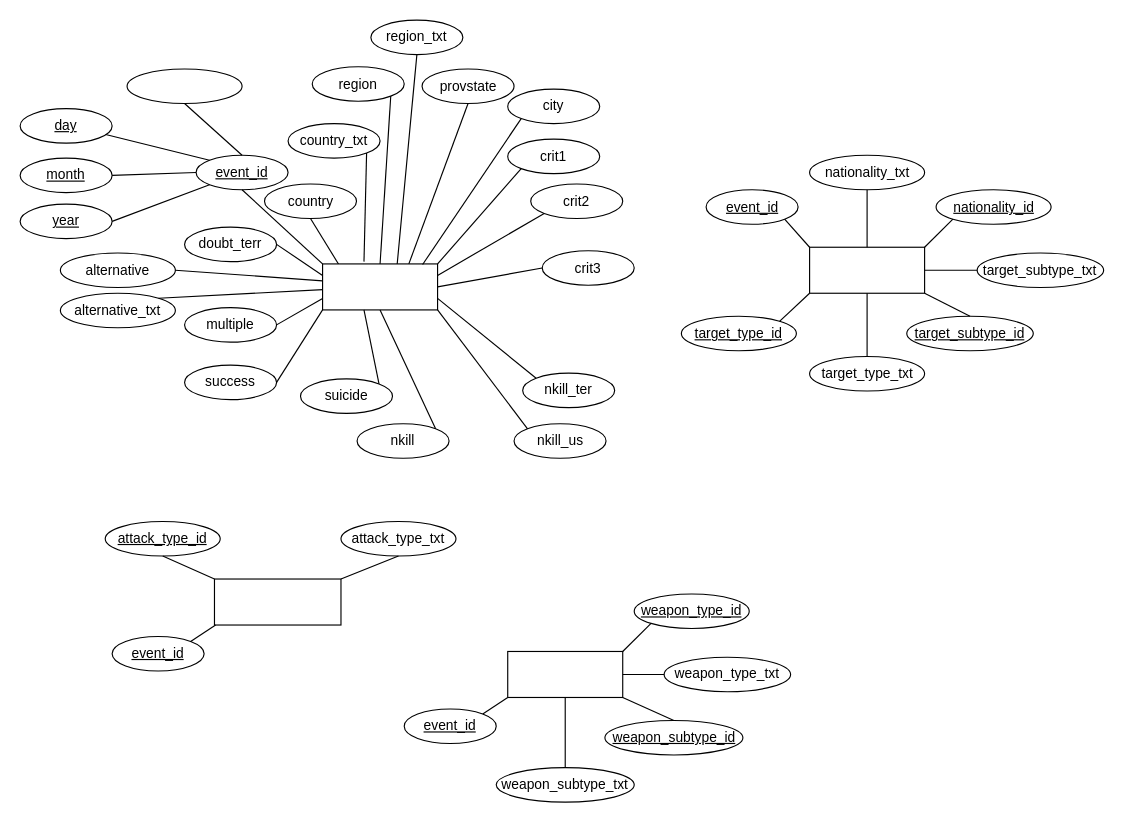
Some shapes in this 1125 by 822 pixel diagram are drawn without their labels. The centre of each missing label's shape, as x and y in pixels:
"case_number" goes at pixel 184 85.
"event_attack_type" goes at pixel 277 601.
"event_target" goes at pixel 866 269.
"event_weapon" goes at pixel 565 673.
"terrorism_event" goes at pixel 379 286.
